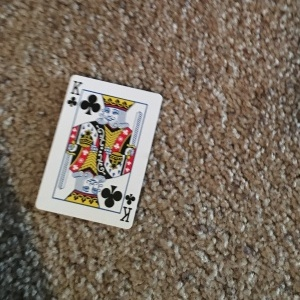card: (33, 71, 164, 229)
